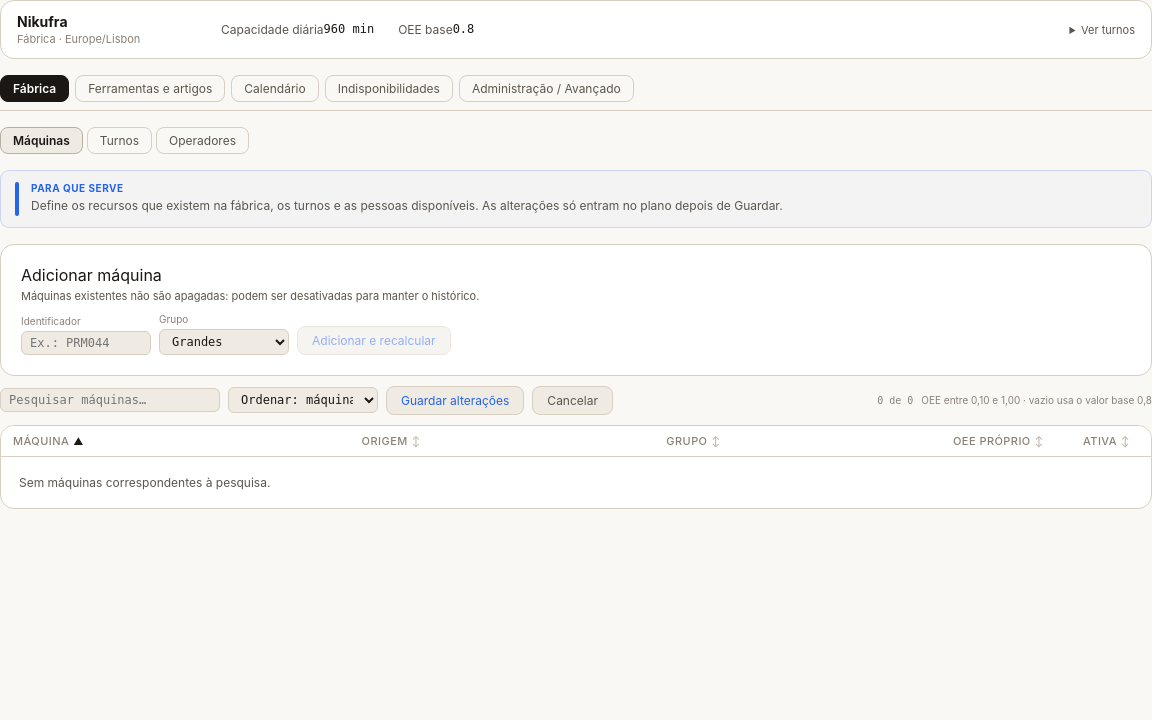
Test: cancelar não aplica nada
Click the button "Calendário". click: (275, 88)
box: [231,75,319,102]
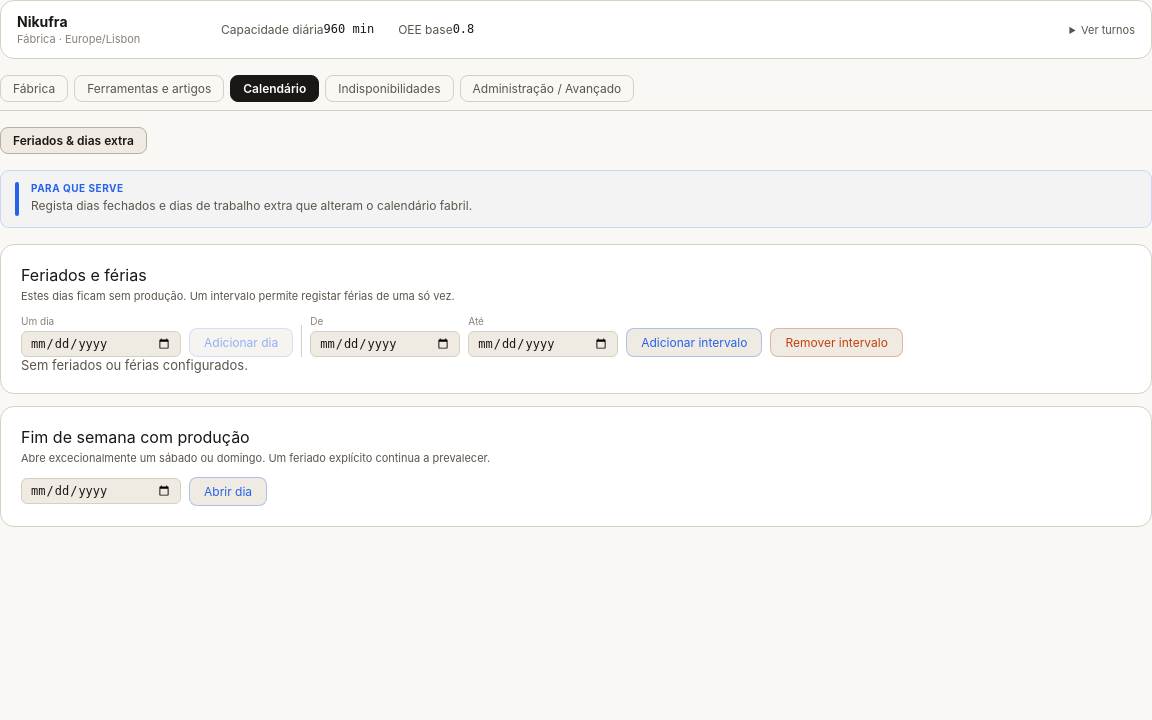
Type "2026-12-24" into the date field labelled "Um dia". click: (101, 344)
box: [21,331,181,357]
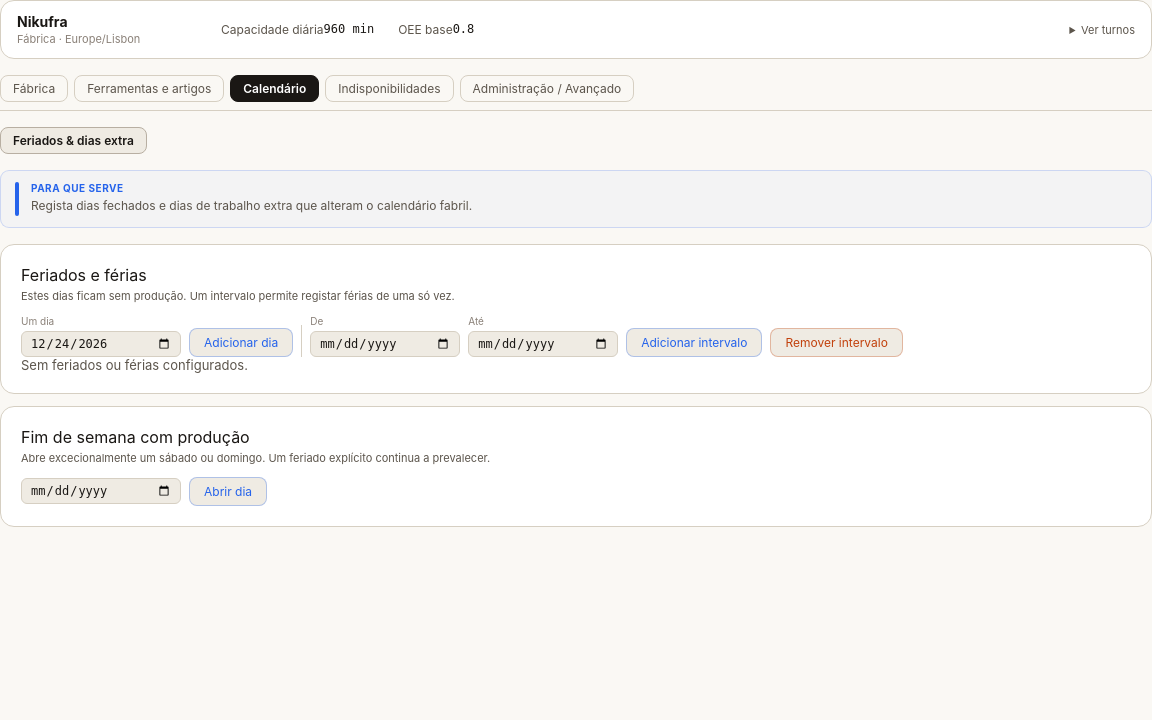
Click the button "Adicionar dia". click: (241, 342)
box: [189,328,293,357]
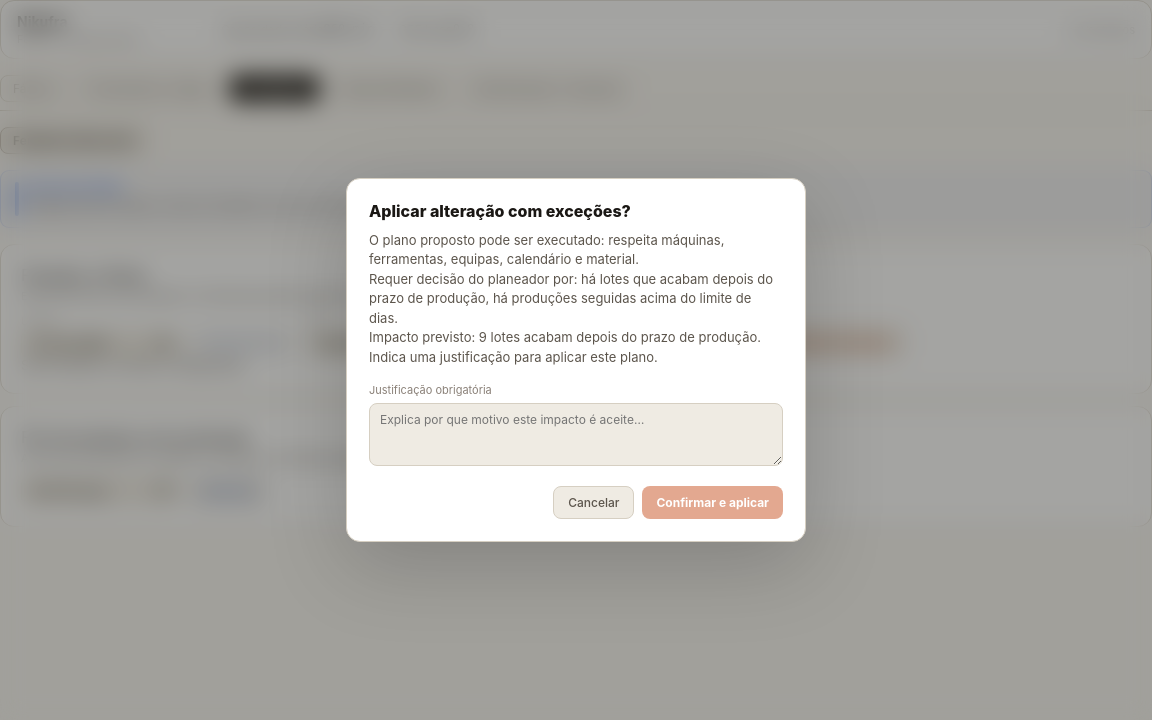
Click the button "Cancelar". click: (594, 503)
box: [553,486,634,519]
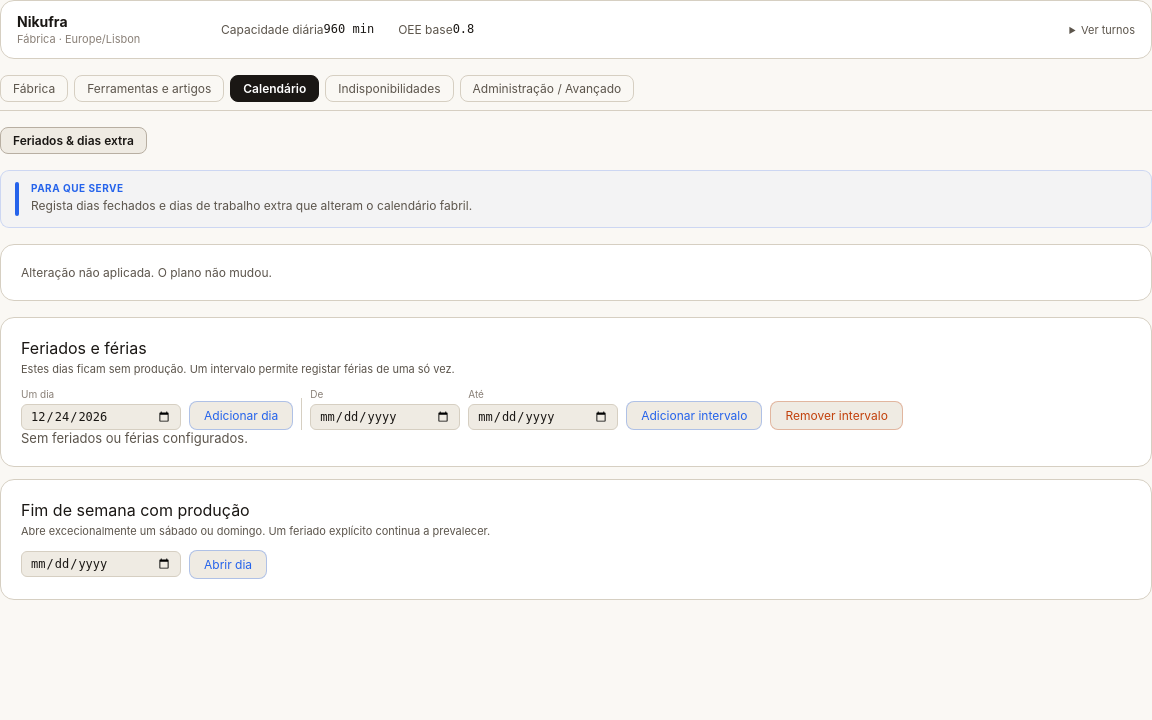
Expected: the dialog is gone
